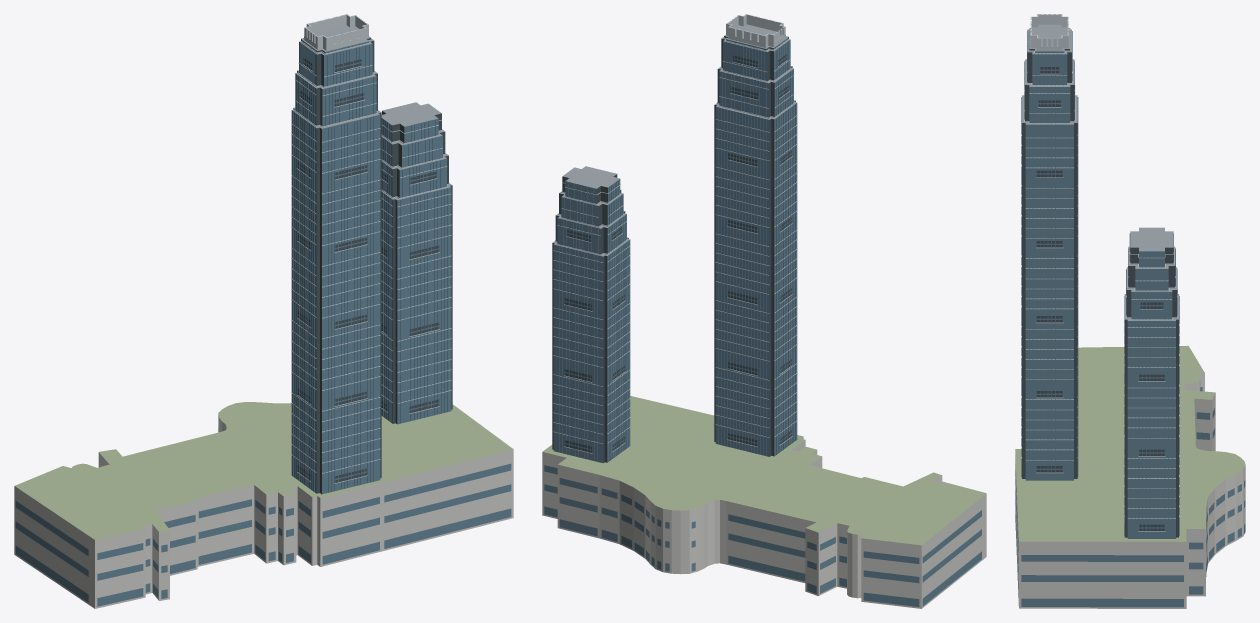
Rendered from changsha-ifs-t1.detail.glb.
3 renders of one model, left to right at view 1: azimuth 30°, elevation 25°; view 2: azimuth 150°, elevation 25°; view 3: azimuth 270°, elevation 25°, orthographic. The views are drawn at different scales.
Visible parts, largest first — view 1: Changsha IFS Tower T1; view 2: Changsha IFS Tower T1; view 3: Changsha IFS Tower T1.
Boxes of the visible parts, x1,y1,x2,y2 form: Changsha IFS Tower T1: [14, 14, 513, 608]; Changsha IFS Tower T1: [542, 14, 986, 608]; Changsha IFS Tower T1: [1015, 14, 1245, 608].
Size of the model in its own units: 376 by 452 by 187.
